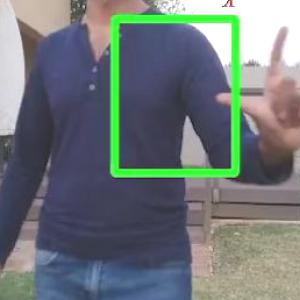land_hand: (211, 16, 299, 155)
